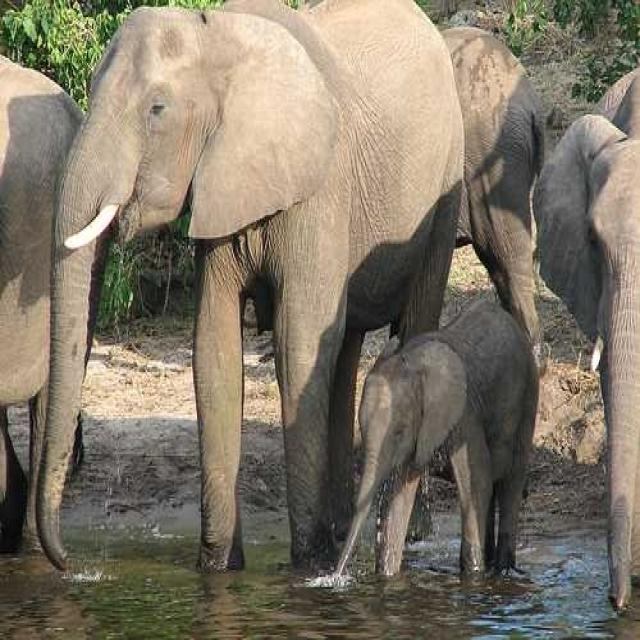Elephant: (33, 0, 467, 573), (330, 296, 539, 580), (531, 65, 639, 611), (0, 51, 99, 556)
